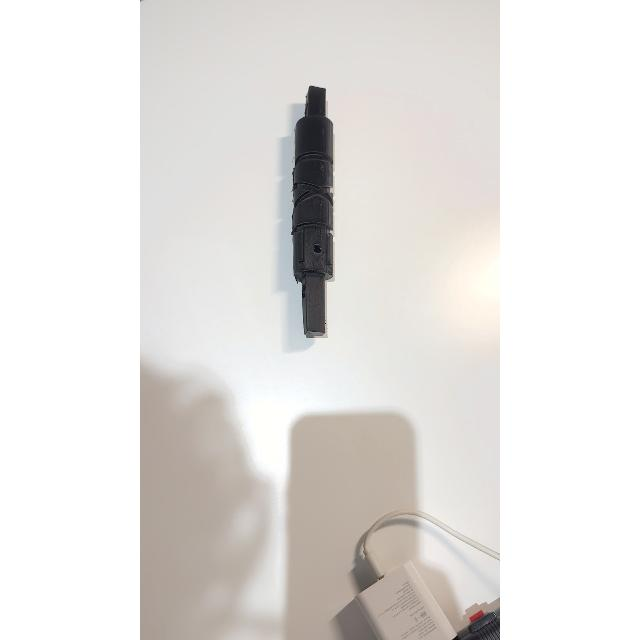Pieza_1: (274, 80, 364, 344)
